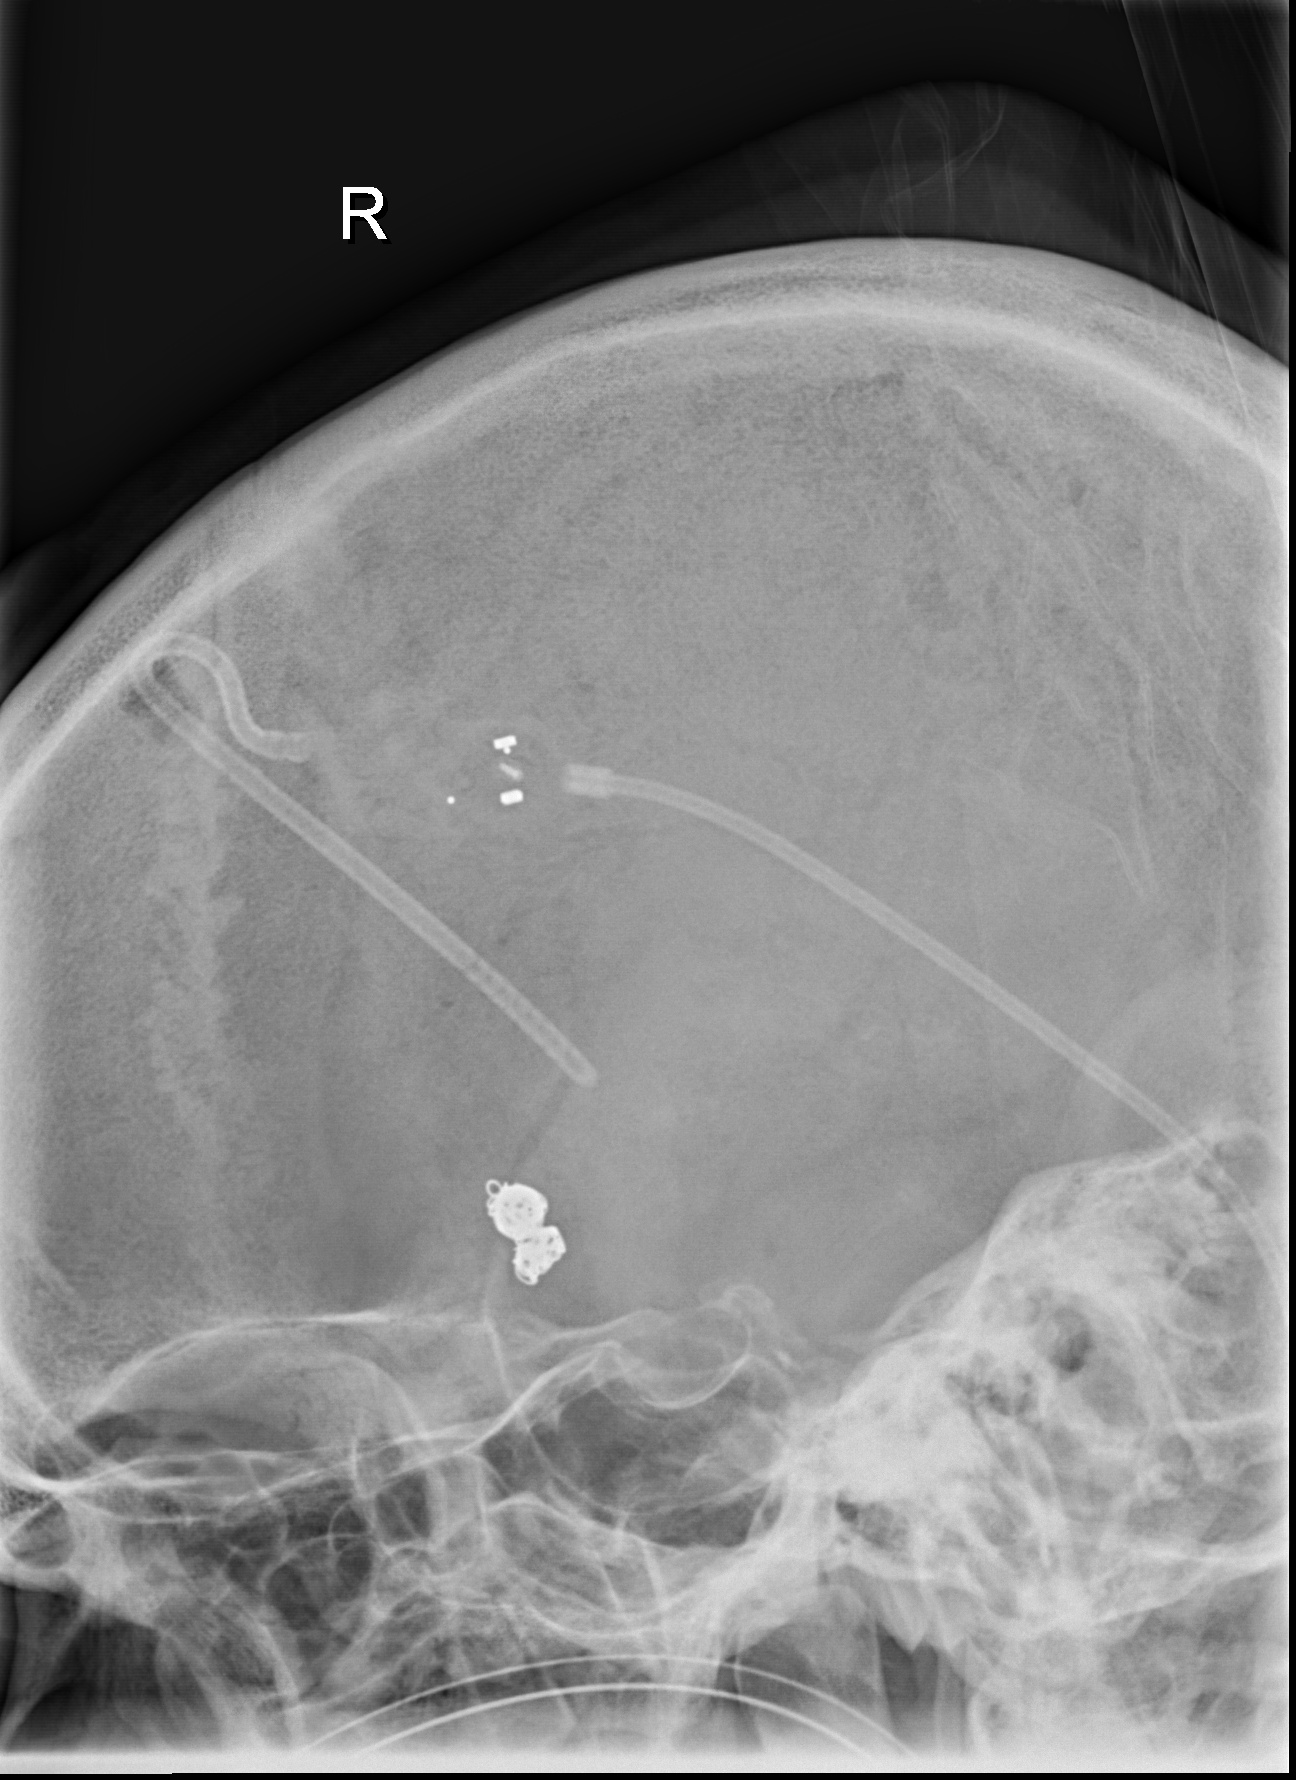Codman Certas: (437, 714, 572, 833)
